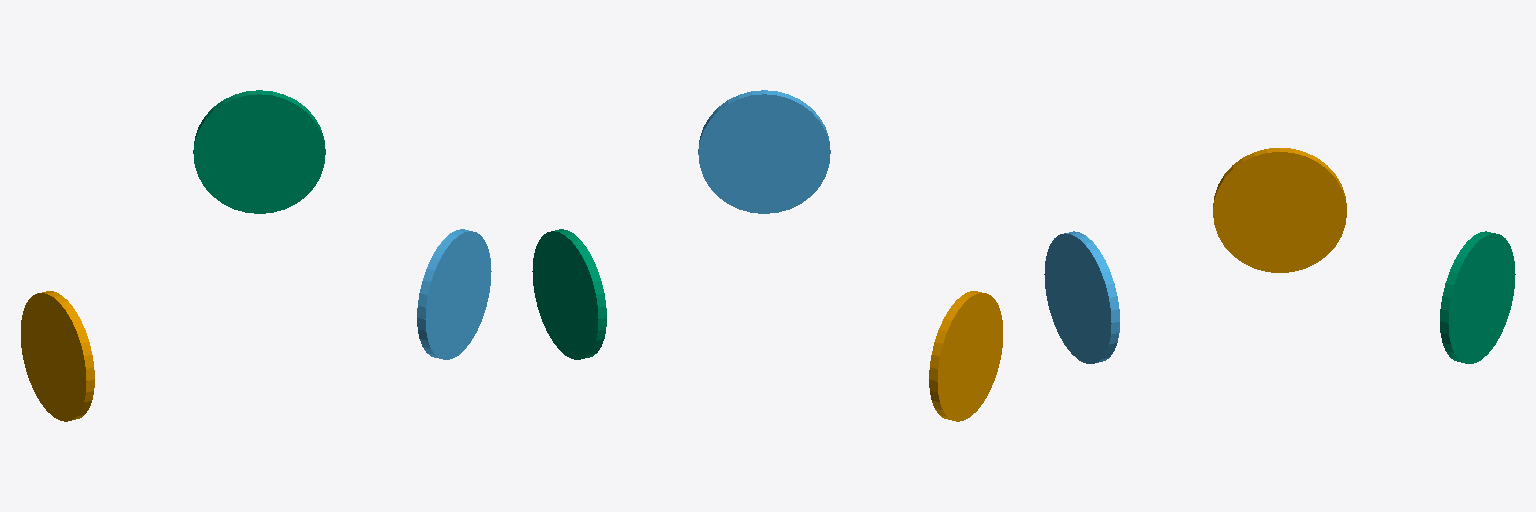
robot.urdf — week_1:
<?xml version="1.0"?>
<robot name="week_1">

  <link name="wheel_1">
    <visual>
      <geometry>
        <cylinder length="0.01" radius="0.0675"/>
      </geometry>
      <origin rpy="0 1.57075 0" xyz="-0.238 0 0.0675"/>
      <color rgba="0 0 0.8 1"/>
    </visual>
  </link>

    <link name="wheel_2">
    <visual>
      <geometry>
        <cylinder length="0.01" radius="0.0675"/>
      </geometry>
      <origin rpy=" 0 1.57075 -1.047197" xyz="0.115 -0.199 0.0675"/>
      <color rgba="1 1 1 1"/>
    </visual>
  </link>

 <joint name="wheel1_to_wheel_2" type="continuous">
    <parent link="wheel_1"/>
    <child link="wheel_2"/>
    <axis xyz="0 1.57075 0"/>
    <origin xyz="0 0 0.0675"/>
  </joint>

     <link name="wheel_3">
    <visual>
      <geometry>
        <cylinder length="0.01" radius="0.0675"/>
      </geometry>
      <origin rpy=" 0 1.57075 1.047197" xyz="0.115 0.199 0.0675"/>
      <color rgba="1 1 1 1"/>
    </visual>
  </link>

   <joint name="wheel1_to_wheel_3" type="continuous">
    <parent link="wheel_1"/>
    <child link="wheel_3"/>
    <axis xyz="0 -1.57075 0"/>
    <origin xyz="0 0 0.0675"/>
  </joint>


</robot>

--- Render facts (derived) ---
Views: 3 orthographic renders of the robot side by side, from view 1: azimuth 30°, elevation 25°; view 2: azimuth 150°, elevation 25°; view 3: azimuth 270°, elevation 25°.
Robot: week_1 — 3 links, 2 joints (2 continuous); root link wheel_1; default pose: all joints at 0.
Visible links, largest first — view 1: wheel_3, wheel_2, wheel_1; view 2: wheel_2, wheel_3, wheel_1; view 3: wheel_1, wheel_2, wheel_3.
Boxes of the visible links, box(x1,y1,x2,y2) form: wheel_3: box(193, 90, 325, 213); wheel_2: box(417, 229, 491, 359); wheel_1: box(21, 291, 94, 421); wheel_2: box(698, 90, 830, 213); wheel_3: box(532, 229, 606, 359); wheel_1: box(929, 291, 1002, 421); wheel_1: box(1213, 148, 1346, 272); wheel_2: box(1044, 231, 1119, 363); wheel_3: box(1440, 231, 1515, 363).
Size in the robot's own frame: 0.419 by 0.4742 by 0.2025 metres.
Geometry: primitives only (box / cylinder / sphere), no mesh files.